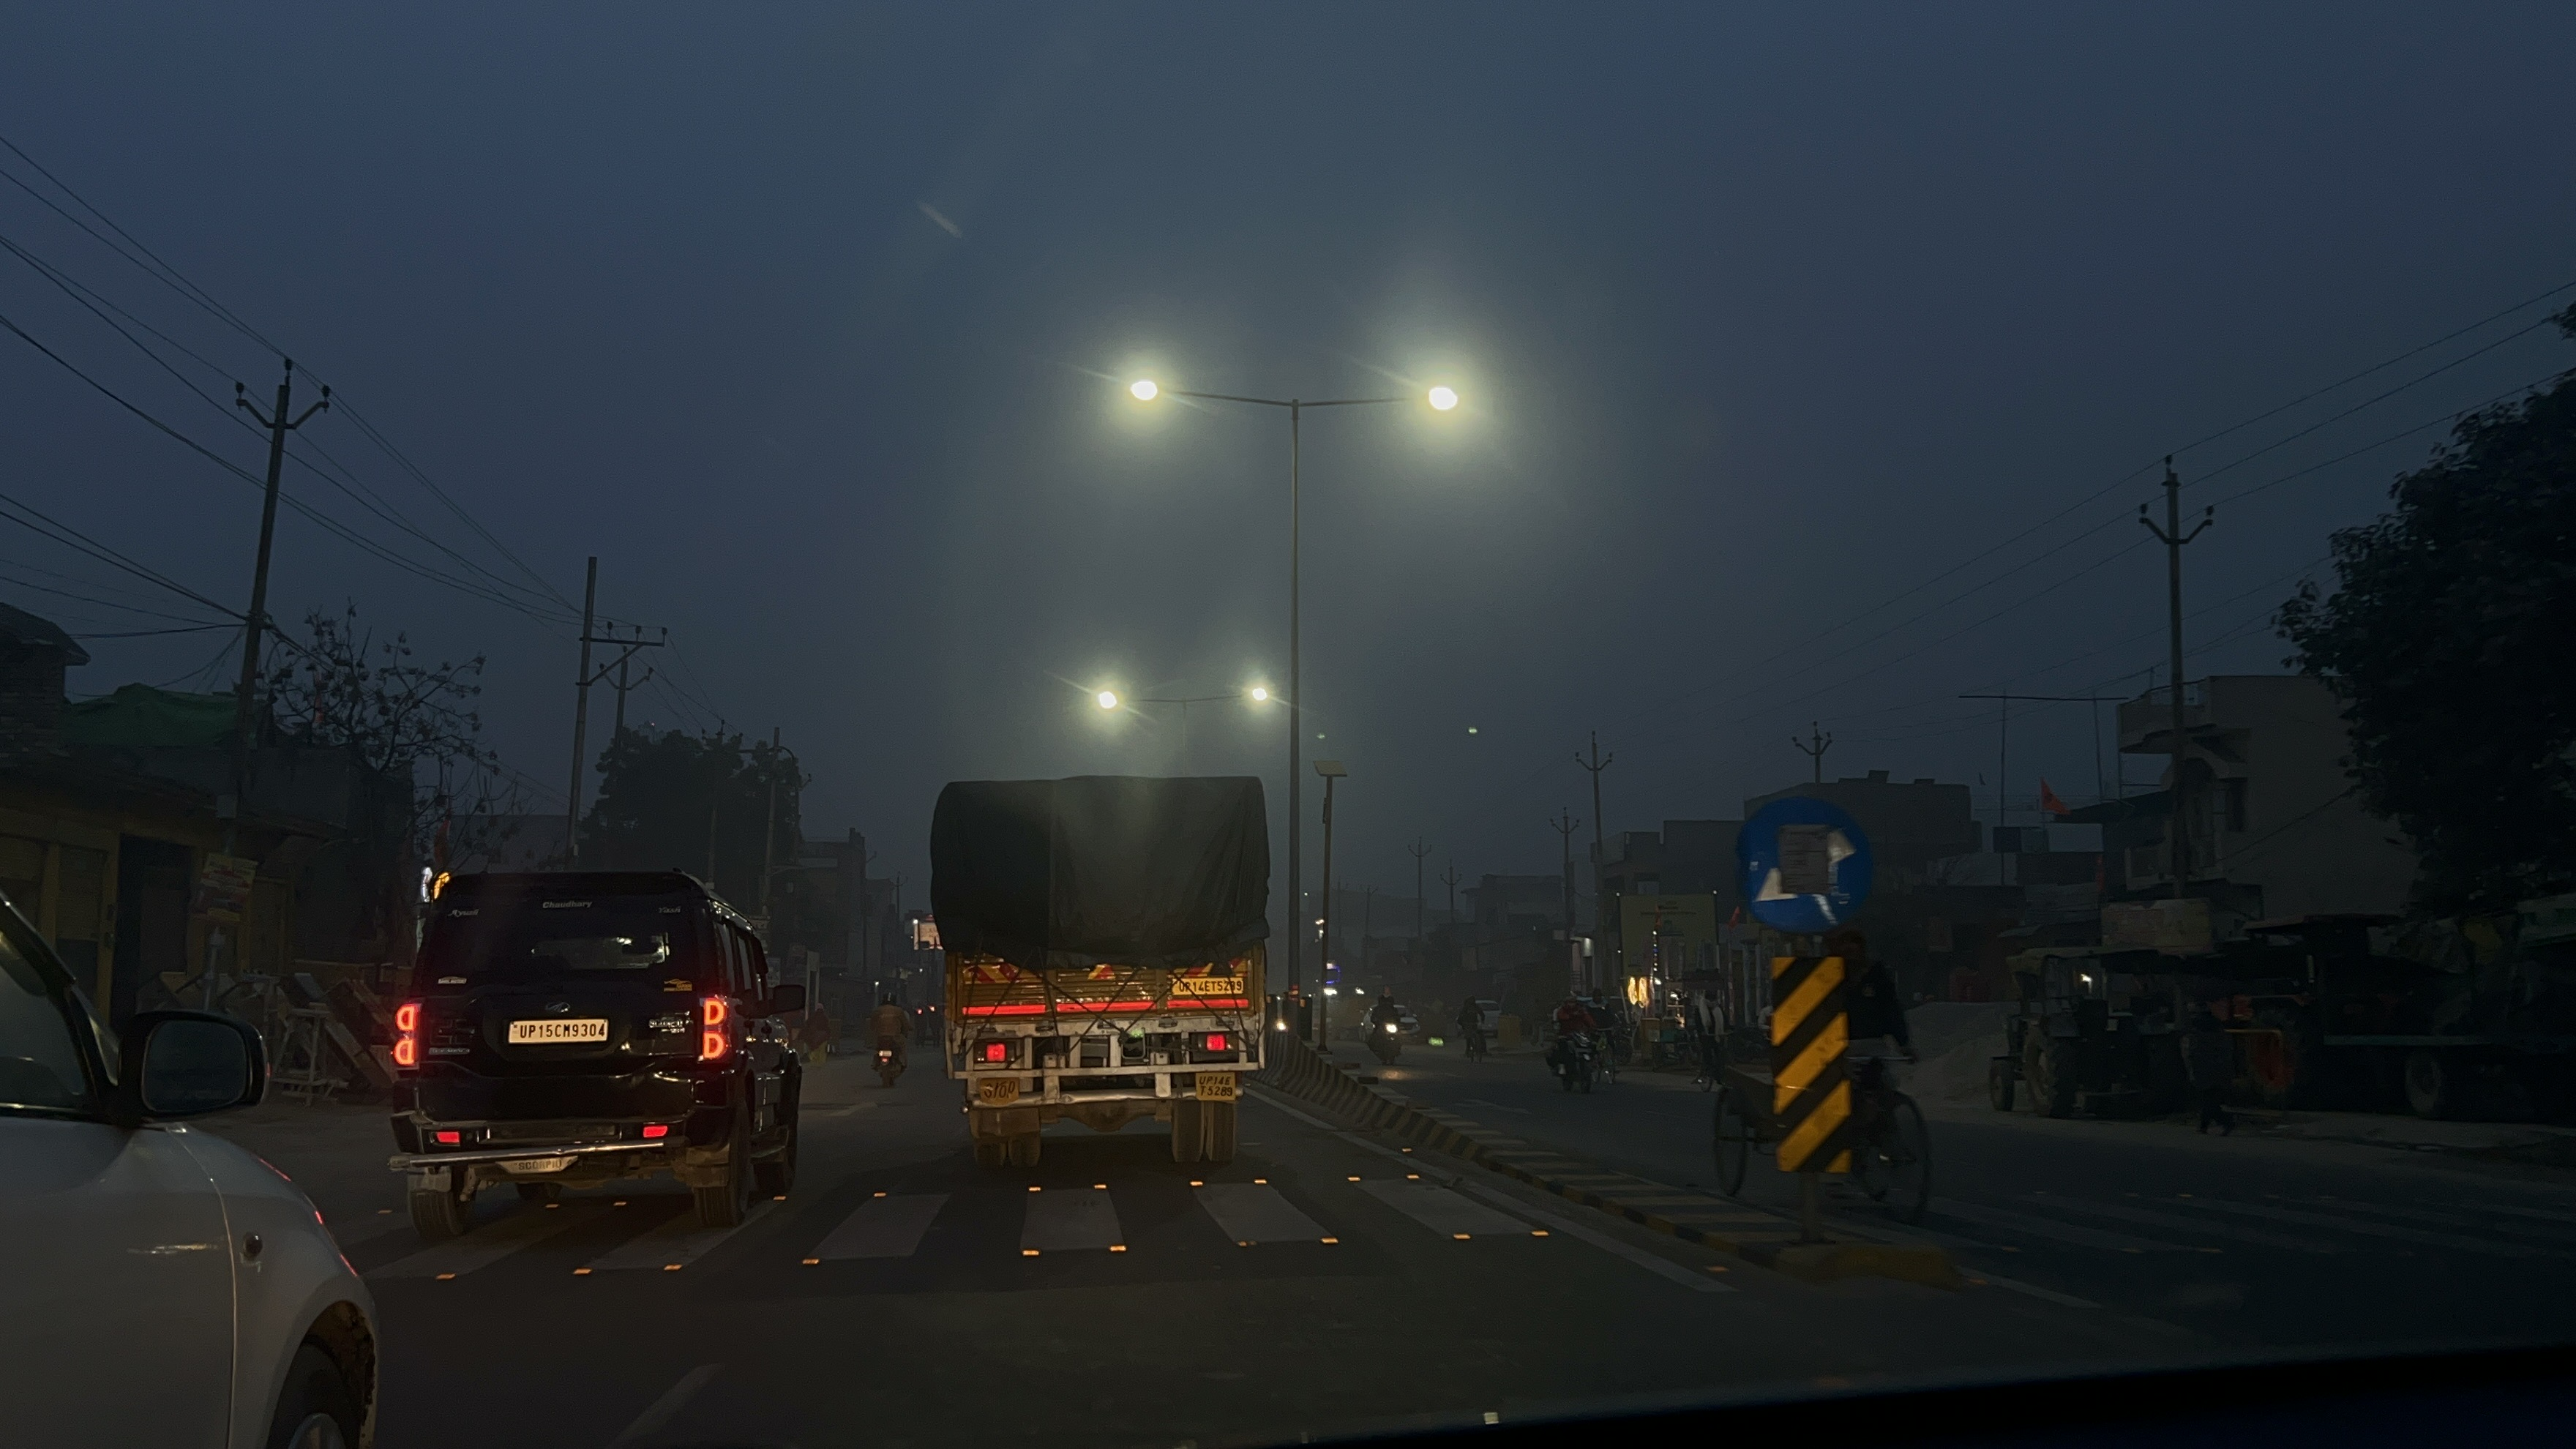General: (1769, 961, 1854, 1178)
Regulatory: (1739, 789, 1874, 945)
